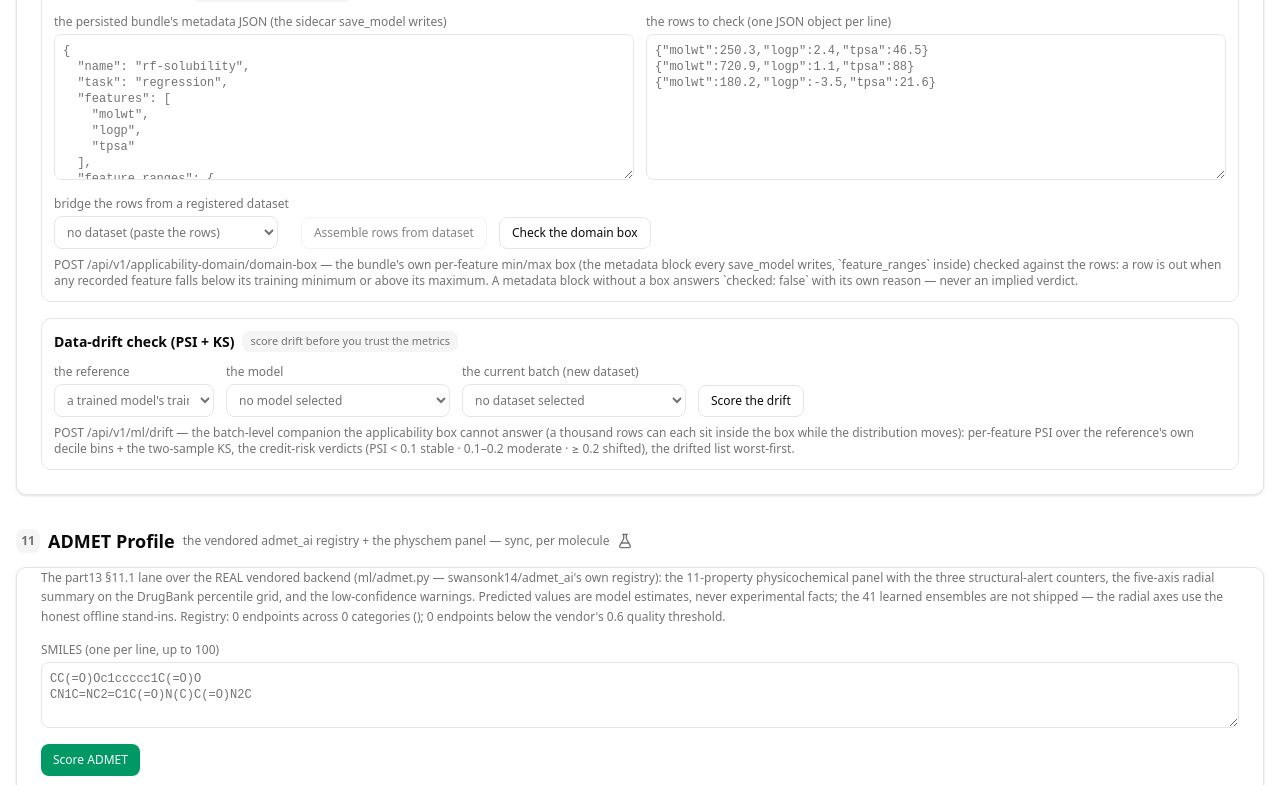
MLPage stage 10f — the ML-5 data-drift lane (the batch-level AD companion) › rides the model reference kind with the trained model's own id
(page scrolled)
Select "random_forest · 400 rows" in the dropdown named "the drift reference model" at (338, 400), box [226,384,450,417]
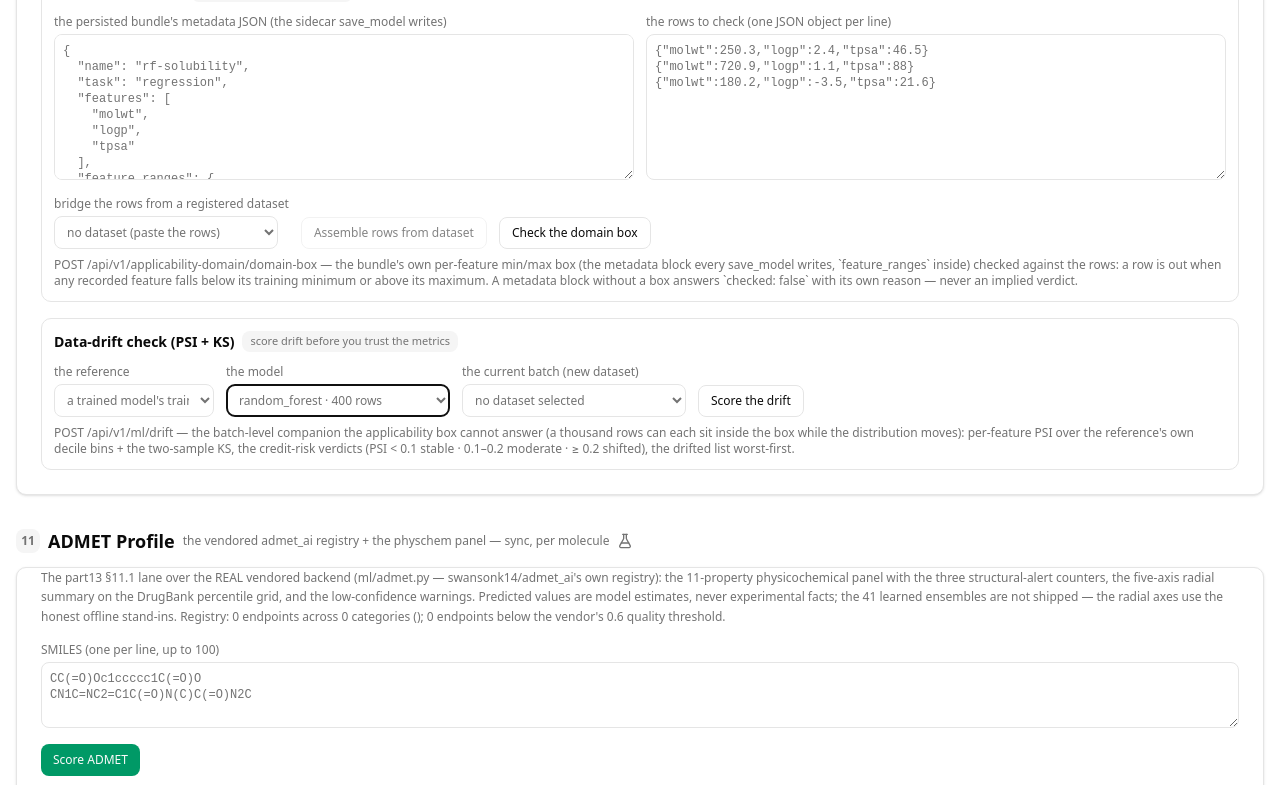
Select "fresh-batch.csv · 400 rows" in the dropdown named "the drift current dataset" at (574, 400), box [462,384,686,417]
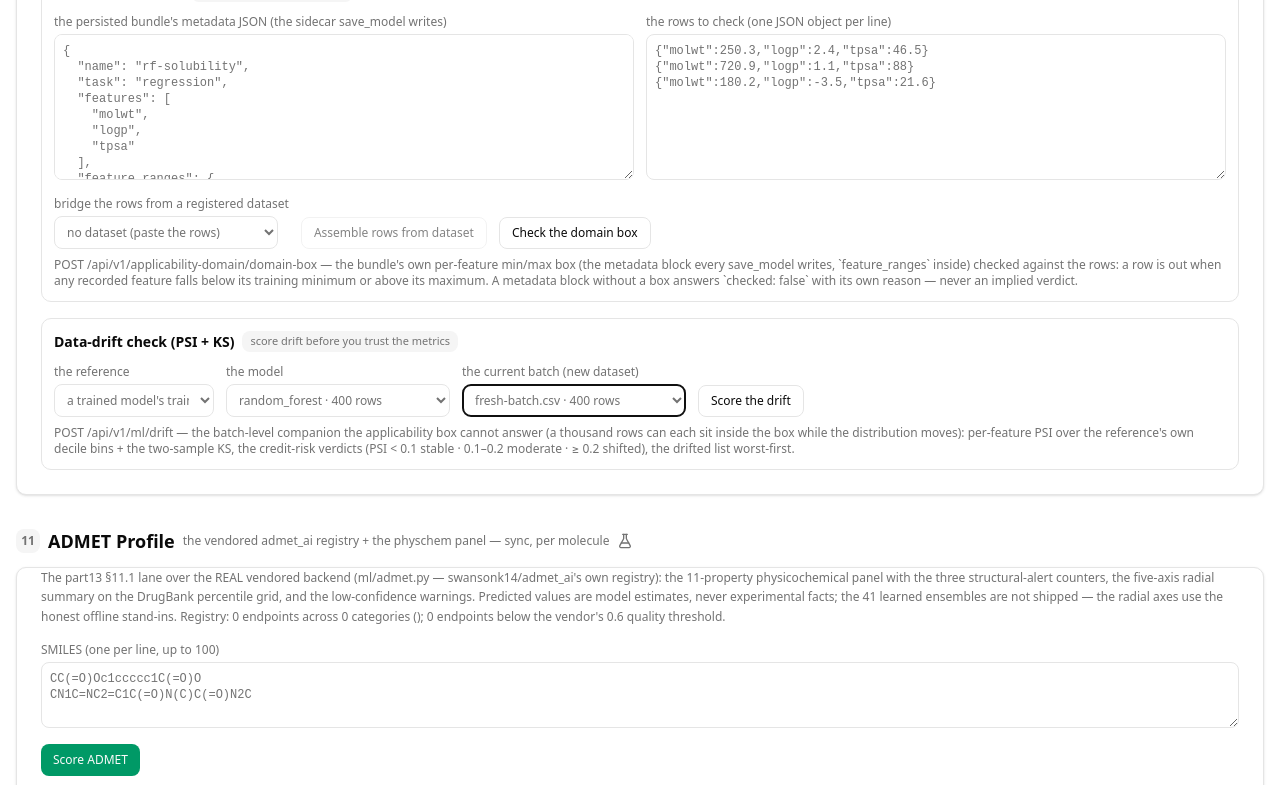
Click the button "Score the drift" at (751, 401), box [698,385,804,417]
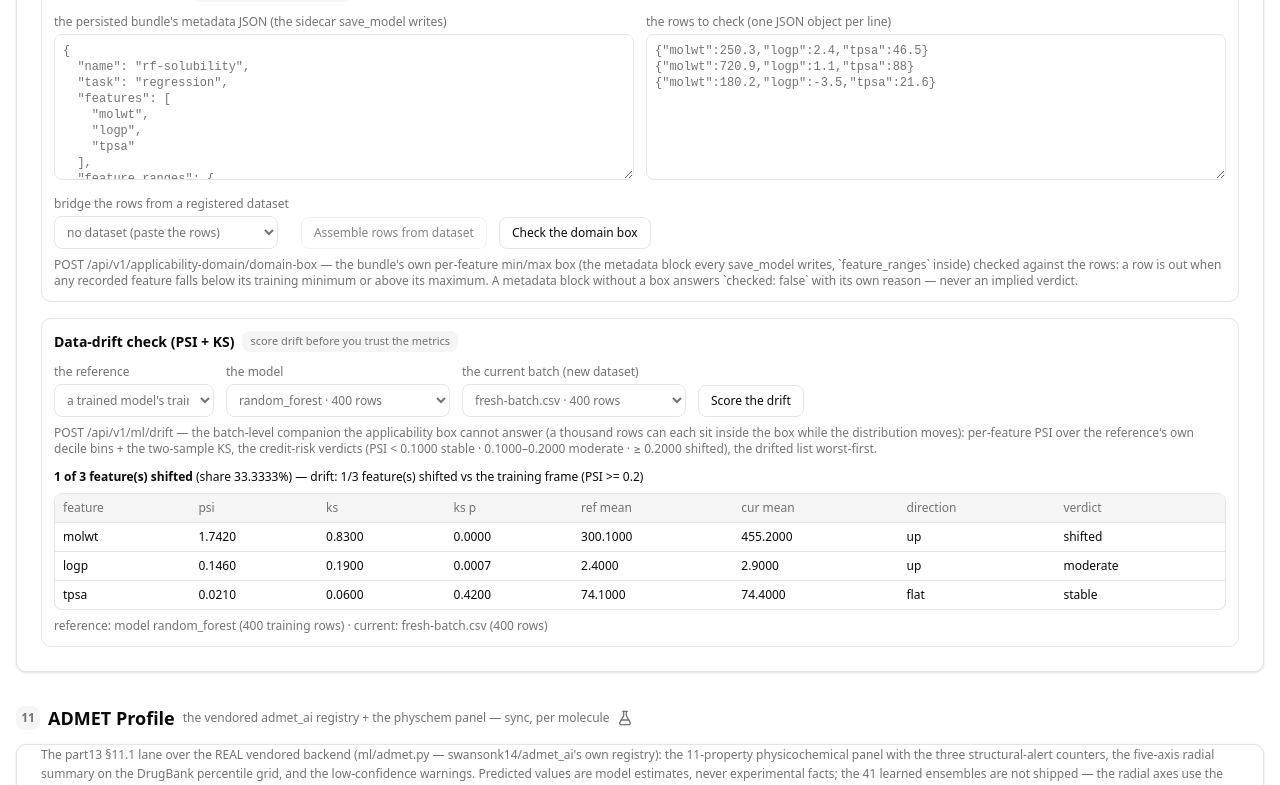
Expected: the text "model random_forest (400 training rows)" is shown, [114,617,344,634]
